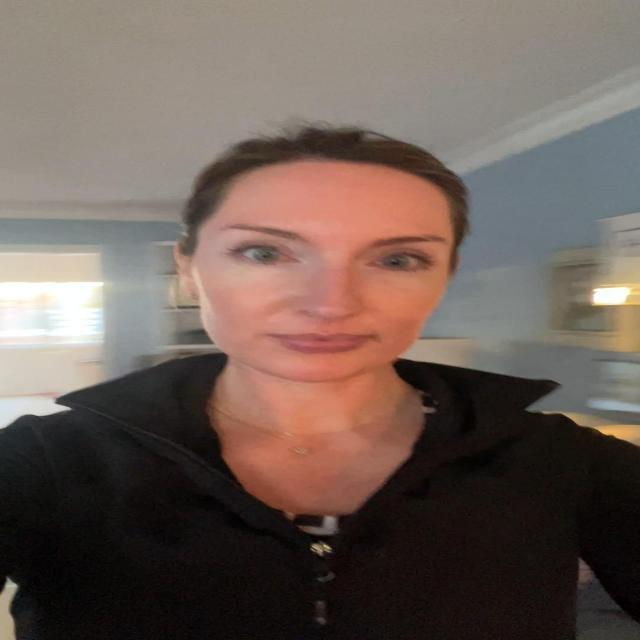no hat: (174, 142, 474, 408)
